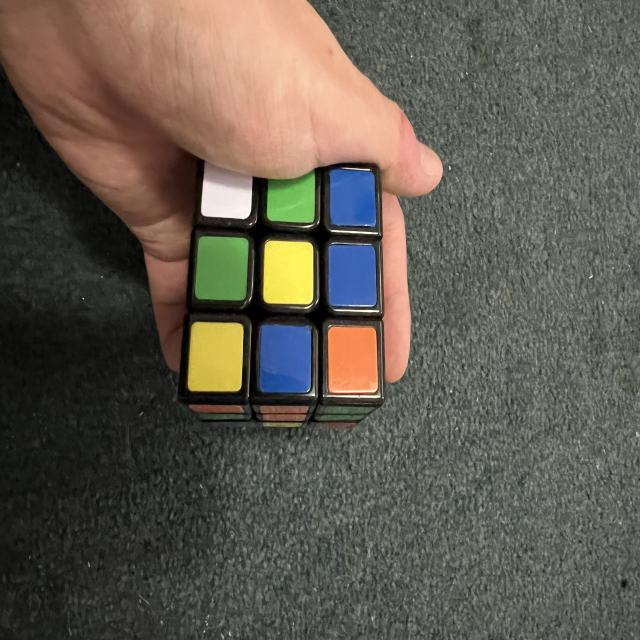blue: (258, 324, 312, 394), (326, 241, 378, 309), (329, 168, 376, 227)
center: (262, 239, 315, 306)
green: (193, 236, 248, 301), (267, 170, 315, 224)
orange: (327, 326, 379, 395)
white: (198, 161, 255, 221)
yellow: (186, 321, 244, 393), (262, 239, 315, 306)
